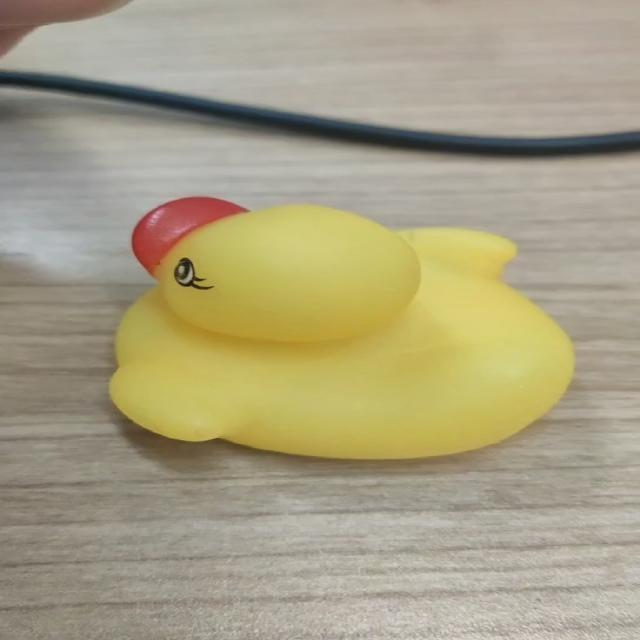rubber-duck: (109, 196, 572, 457)
